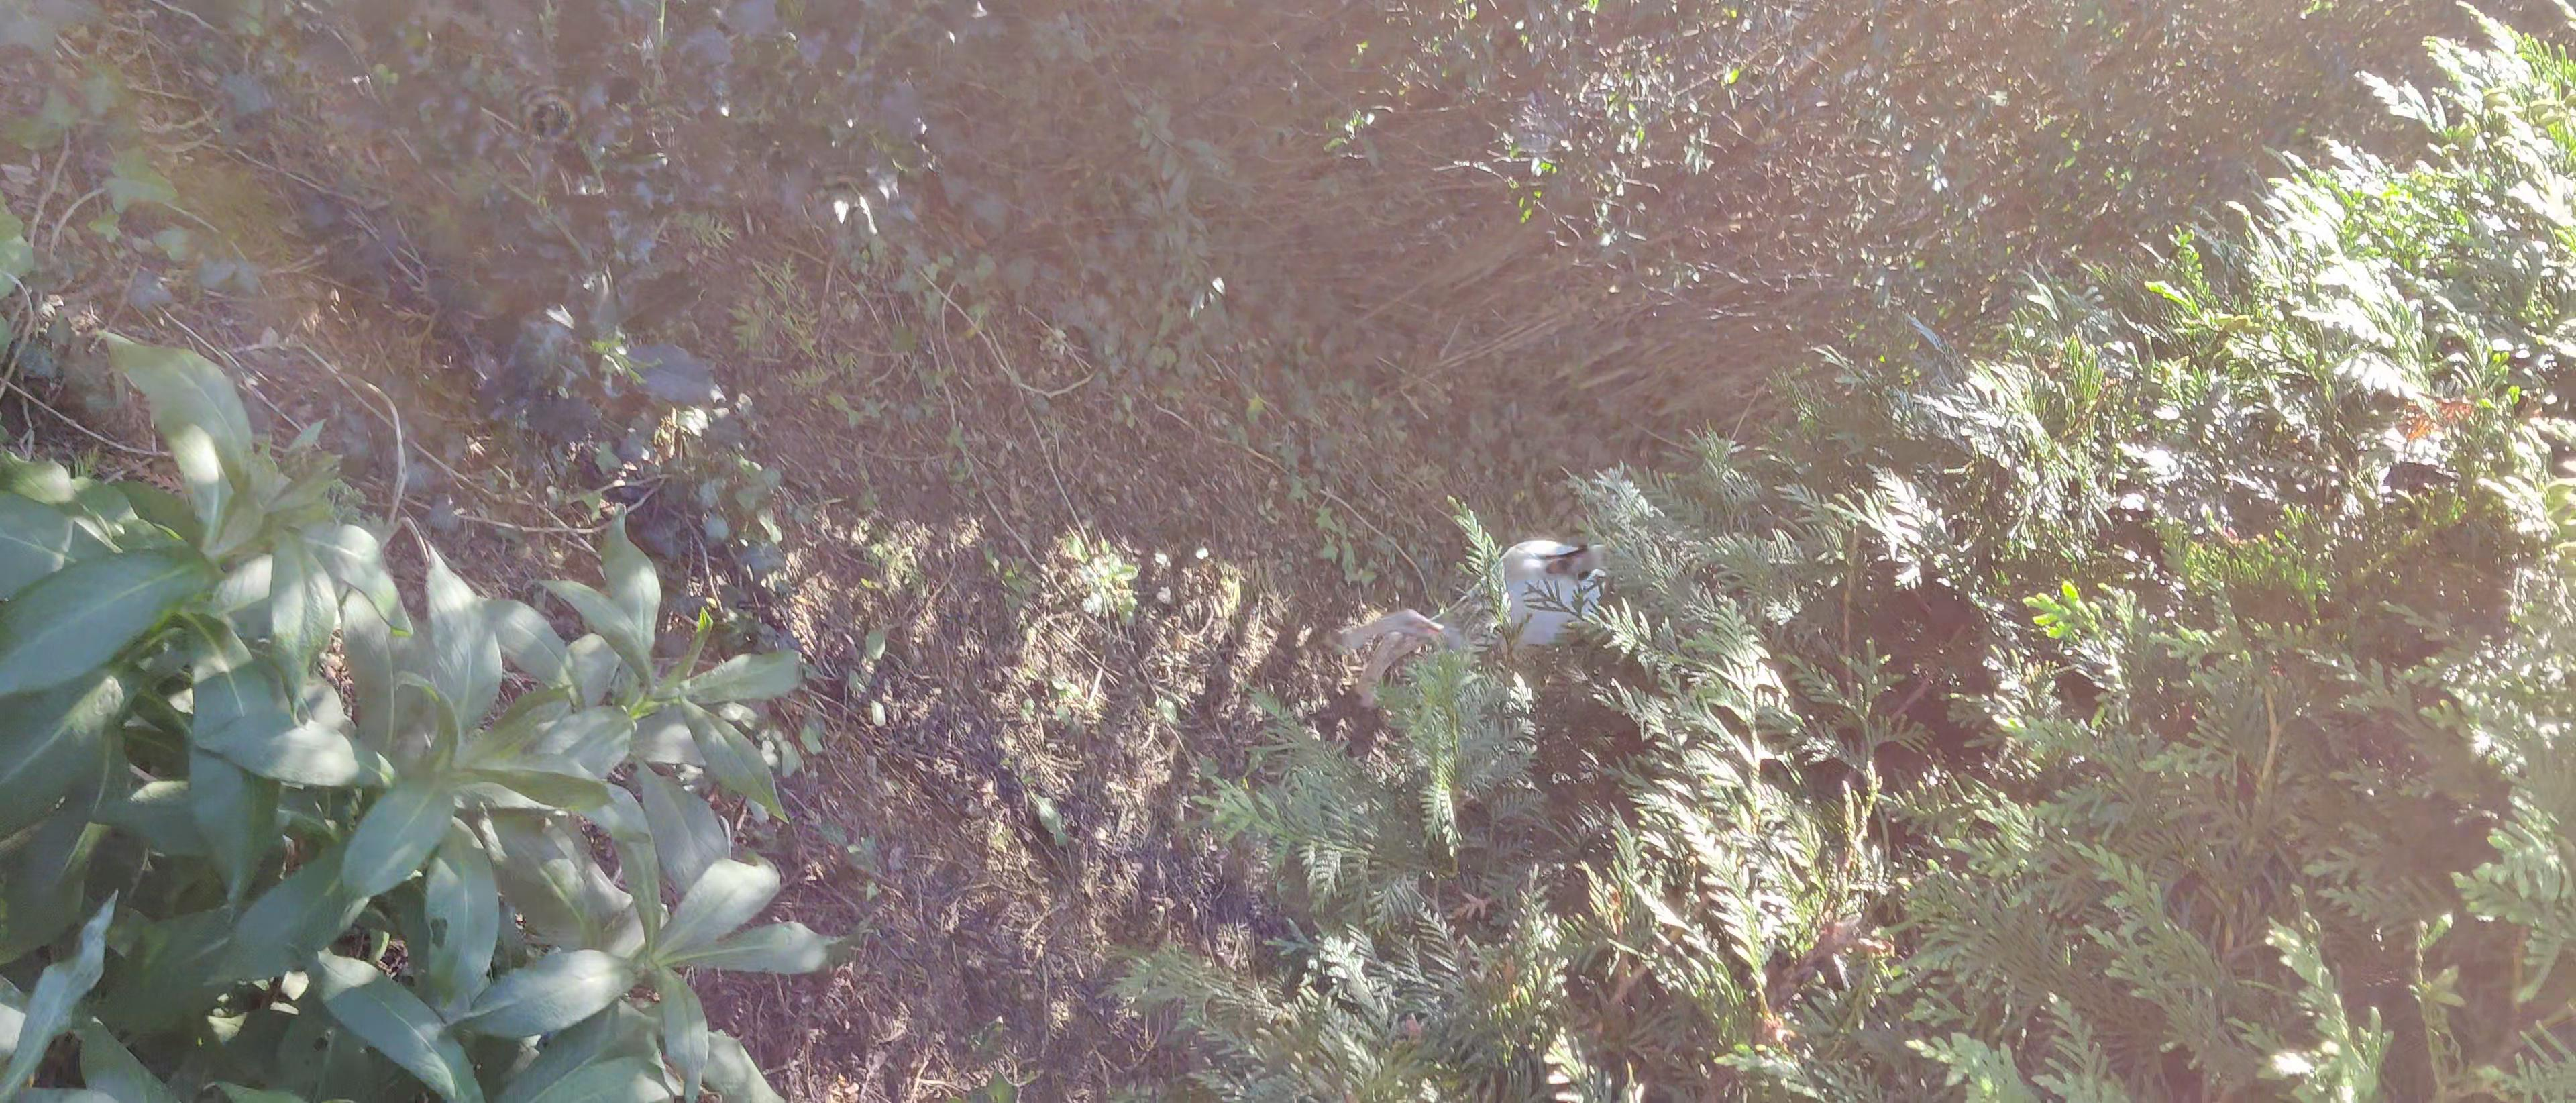Dog: (1322, 534, 1640, 712)
